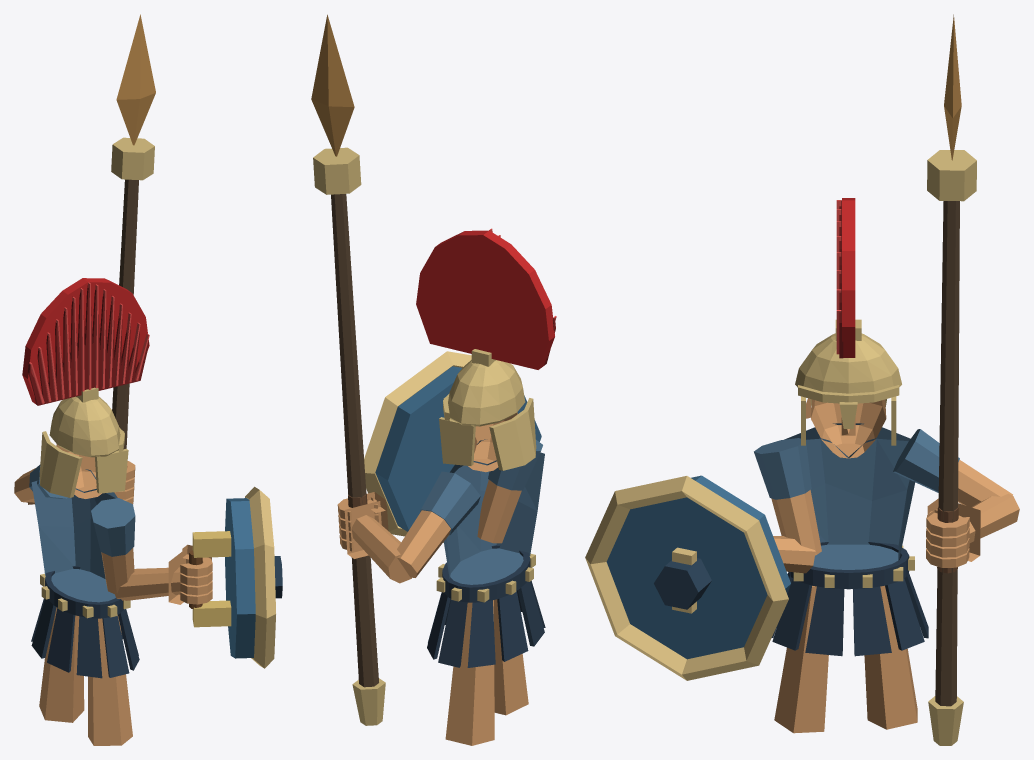
Rendered from romanSoldier_spear_red.glb.
The picture shows the model from 3 angles, left to right: view 1: azimuth 30°, elevation 25°; view 2: azimuth 150°, elevation 25°; view 3: azimuth 270°, elevation 25°; orthographic projection. The views are drawn at different scales.
Visible parts, largest first — view 1: Helmet_Galea.002, n3, Skirt_Ten_Separated_Lames.002, soldier-crest-feathers, soldier-crest, soldier-crest-stems, n33, n35, n24, long-spear-head, n27, n42 (+10 smaller); view 2: soldier-crest, Helmet_Galea.002, n42, n33, Skirt_Ten_Separated_Lames.002, n3, n27, n35, long-spear-head, n21, n24, Short_blue_sleeve_R (+8 smaller); view 3: n33, n3, n35, n42, Skirt_Ten_Separated_Lames.002, Helmet_Galea.002, n24, n27, n7, Closed_gripping_hand_R, Short_blue_sleeve_L, n46 (+10 smaller).
Boxes of the visible parts, x1,y1,x2,y2 form: Helmet_Galea.002: (39, 387, 130, 618); n3: (31, 469, 117, 606); Skirt_Ten_Separated_Lames.002: (31, 598, 139, 678); soldier-crest-feathers: (28, 285, 148, 405); soldier-crest: (22, 278, 149, 404); soldier-crest-stems: (29, 282, 149, 403); n33: (225, 498, 255, 658); n35: (245, 486, 275, 668); n24: (88, 614, 132, 745); long-spear-head: (116, 14, 155, 145); n27: (39, 607, 84, 722); n42: (112, 179, 138, 448); soldier-crest: (416, 230, 554, 369); Helmet_Galea.002: (436, 349, 536, 602); n42: (331, 194, 378, 687); n33: (375, 366, 541, 531); Skirt_Ten_Separated_Lames.002: (427, 580, 545, 667); n3: (444, 439, 544, 584); n27: (445, 600, 494, 745); n35: (364, 351, 471, 542); long-spear-head: (311, 14, 354, 156); n21: (397, 510, 450, 577); n24: (494, 599, 528, 715); Short_blue_sleeve_R: (420, 471, 480, 535); n33: (606, 475, 790, 659); n3: (784, 423, 915, 569); n35: (585, 476, 788, 680); n42: (935, 201, 959, 706); Skirt_Ten_Separated_Lames.002: (771, 572, 928, 656); Helmet_Galea.002: (793, 319, 914, 587); n24: (774, 586, 828, 733); n27: (864, 585, 917, 729); n7: (806, 398, 886, 458); Closed_gripping_hand_R: (926, 498, 980, 567); Short_blue_sleeve_L: (754, 438, 811, 499); n46: (927, 150, 976, 201).
Size of the model in its own units: 0.5587 by 1.7 by 0.8754.
